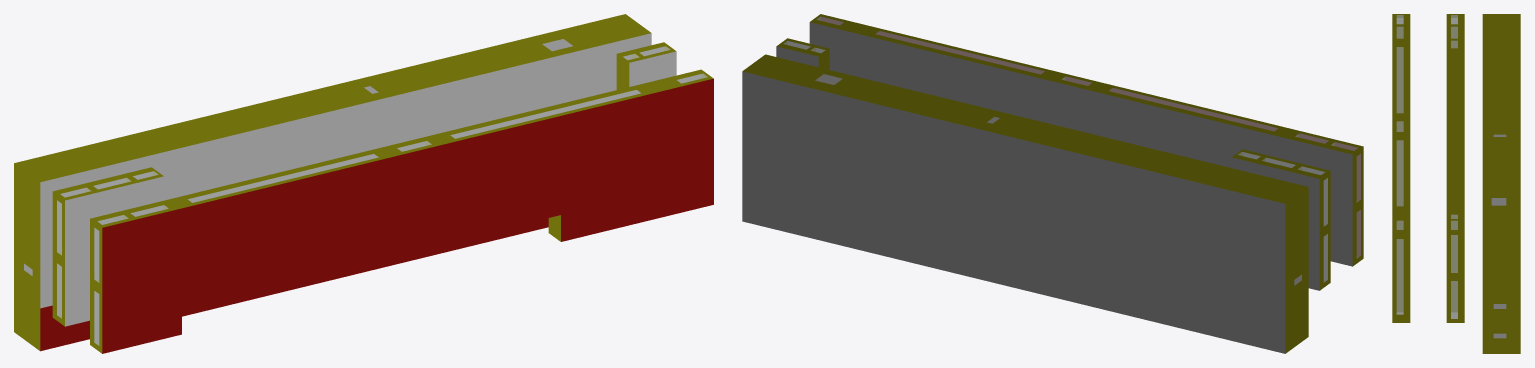
File: idf.obj
3 views of the same model, side by side, from view 1: azimuth 30°, elevation 25°; view 2: azimuth 150°, elevation 25°; view 3: azimuth 270°, elevation 25° (orthographic). The views are drawn at different scales.
Size of the model in its own units: 86.56 by 22.86 by 21.64.
